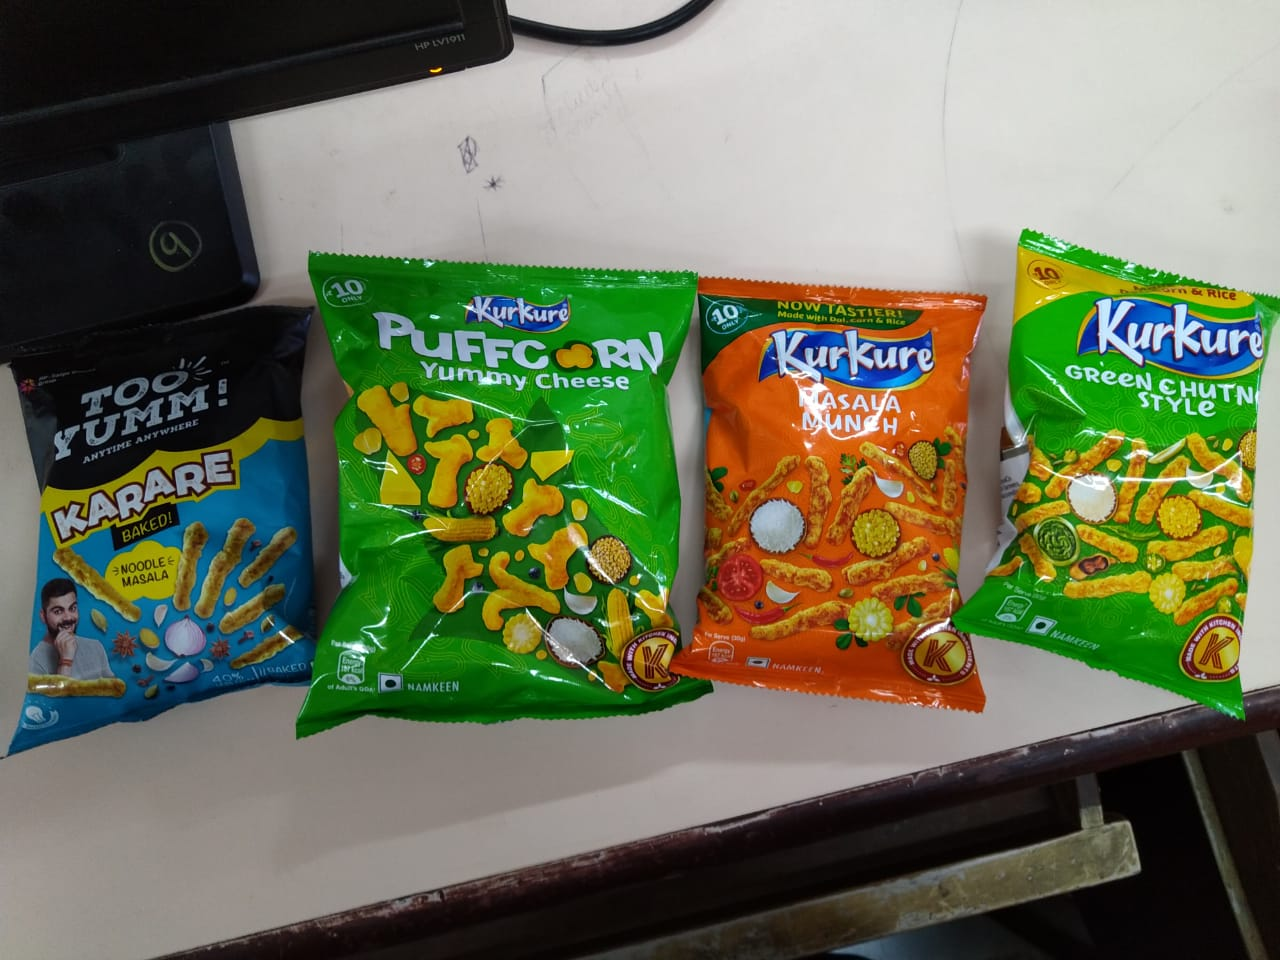kurkure: (1081, 303, 1280, 379), (759, 311, 937, 387), (1071, 299, 1245, 361), (797, 333, 921, 379), (459, 293, 601, 333)
tooyumm: (49, 339, 253, 487)
wrapper: (303, 239, 737, 715), (963, 229, 1271, 727), (15, 285, 329, 763), (655, 273, 999, 691)
